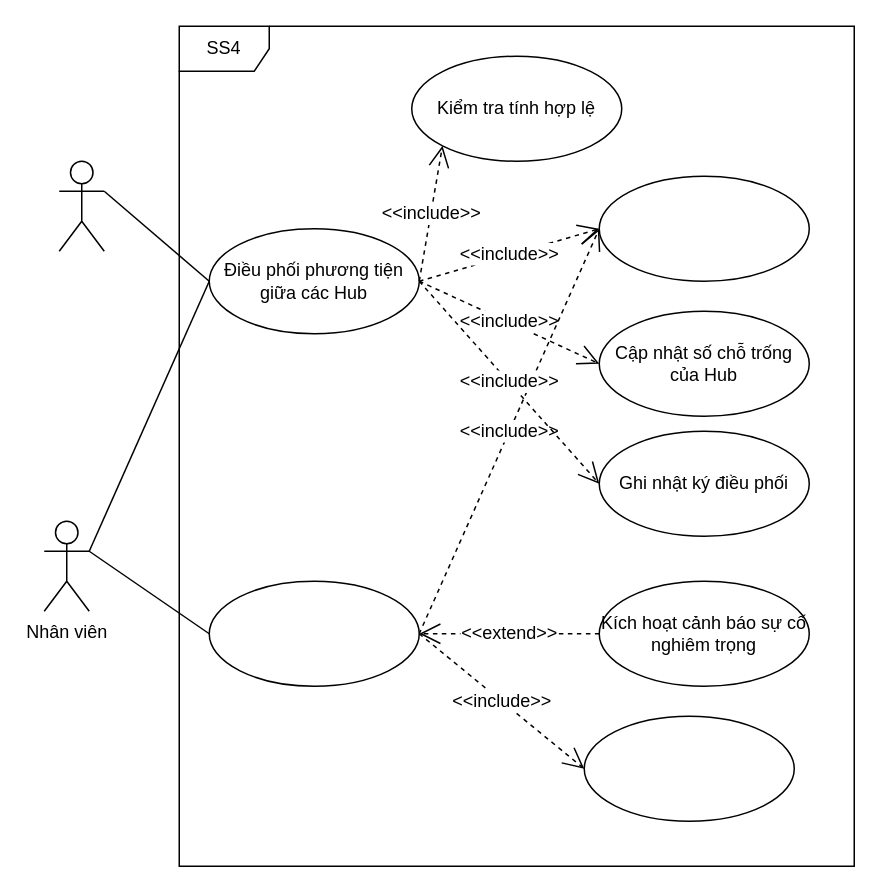
The diagram is 881 pixels wide and 893 high, and some of its shapes have lost their labels. Here are the shapes that lost their labels. From the top down, the centre of each, then its label:
At (81,205): "Hệ thống Quản lí Hub".
At (703,228): "Cập nhật trạng thái phương tiện".
At (313,633): "Báo cáo sự cố phương tiện".
At (688,768): "Ghi nhật ký sự cố".
